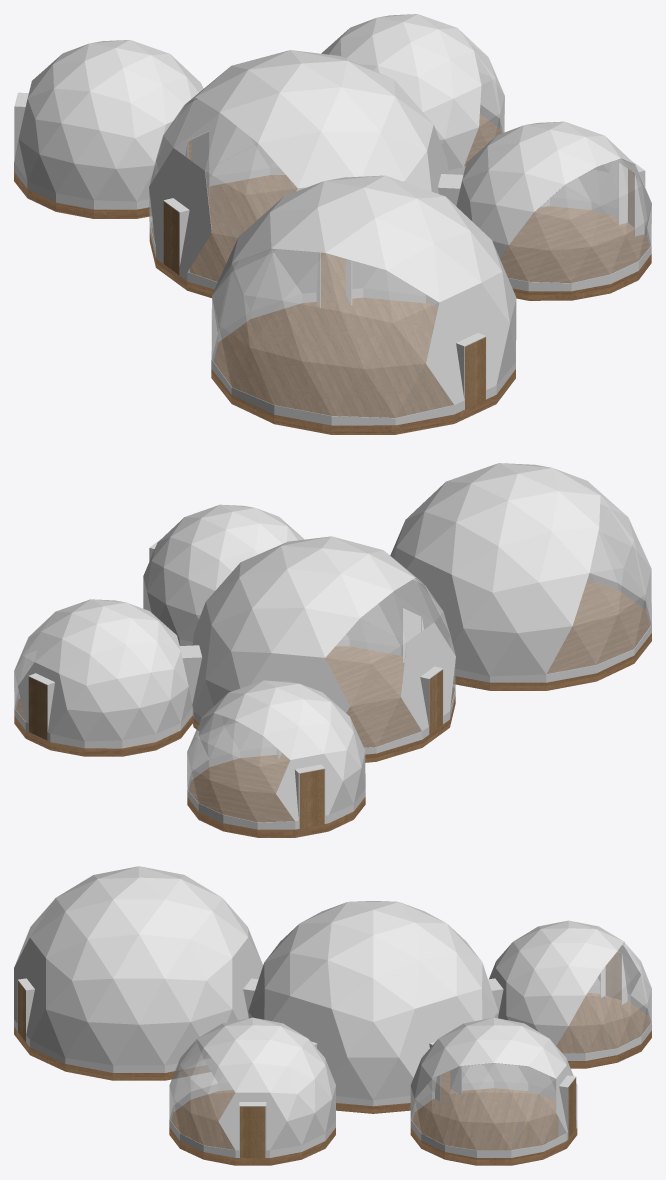
File: dm11.cluster.glb
3 renders of one model, top to bottom at view 1: azimuth 30°, elevation 25°; view 2: azimuth 150°, elevation 25°; view 3: azimuth 270°, elevation 25°, orthographic. The views are drawn at different scales.
Parts seen in each view (by area): view 1: dm11.pacific.clus.domes.01, dm11.pacific.clus.windows.01, dm11.pacific.clus.decks.01, dm11.pacific.clus.doors.01; view 2: dm11.pacific.clus.domes.01, dm11.pacific.clus.windows.01, dm11.pacific.clus.decks.01, dm11.pacific.clus.doors.01; view 3: dm11.pacific.clus.domes.01, dm11.pacific.clus.windows.01, dm11.pacific.clus.decks.01, dm11.pacific.clus.doors.01.
Boxes of the visible parts, x1,y1,x2,y2 form: dm11.pacific.clus.domes.01: [14, 14, 651, 425]; dm11.pacific.clus.windows.01: [149, 29, 651, 417]; dm11.pacific.clus.decks.01: [14, 114, 651, 434]; dm11.pacific.clus.doors.01: [163, 169, 634, 409]; dm11.pacific.clus.domes.01: [14, 463, 651, 829]; dm11.pacific.clus.windows.01: [14, 482, 651, 822]; dm11.pacific.clus.decks.01: [14, 580, 651, 837]; dm11.pacific.clus.doors.01: [29, 670, 442, 828]; dm11.pacific.clus.domes.01: [14, 866, 651, 1157]; dm11.pacific.clus.windows.01: [15, 900, 651, 1150]; dm11.pacific.clus.decks.01: [14, 993, 651, 1165]; dm11.pacific.clus.doors.01: [18, 952, 621, 1157].
Size of the model in its own units: 16.15 by 5.97 by 22.84.
Materials: 3 (2 with a texture image).
